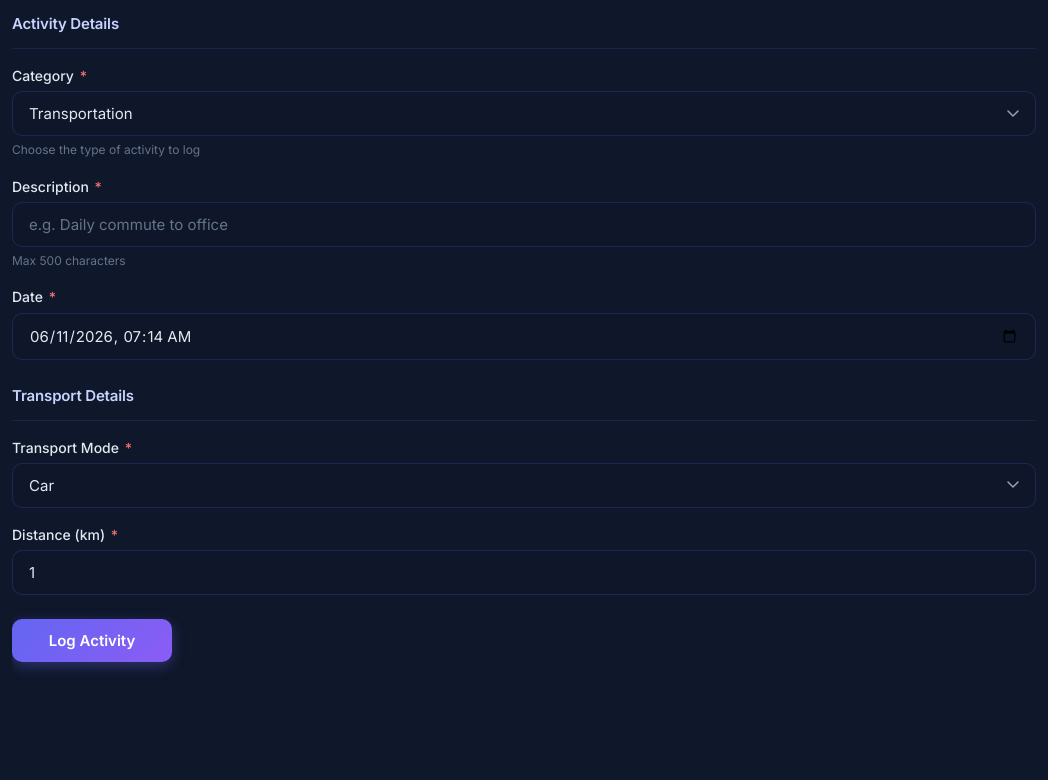
it: LogActivityForm › category field visibility › shows diet fields when Diet / Food is selected (diet_type, days)
This screenshot has width=1048, height=780.
Select "Diet / Food" in the dropdown labelled "Category *" at (524, 114), box [12, 91, 1036, 136]
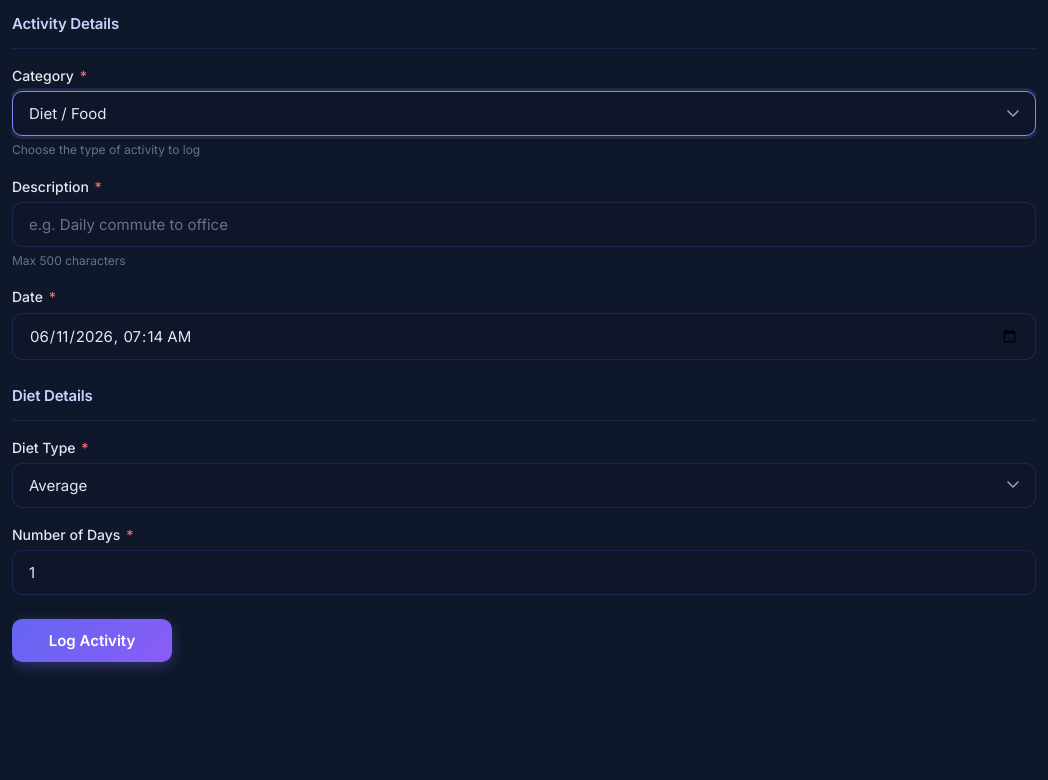
Check: the number field labelled "Number of Days *" is shown, box [12, 550, 1036, 595]
Check: the dropdown labelled "Diet Type *" is shown, box [12, 463, 1036, 508]
